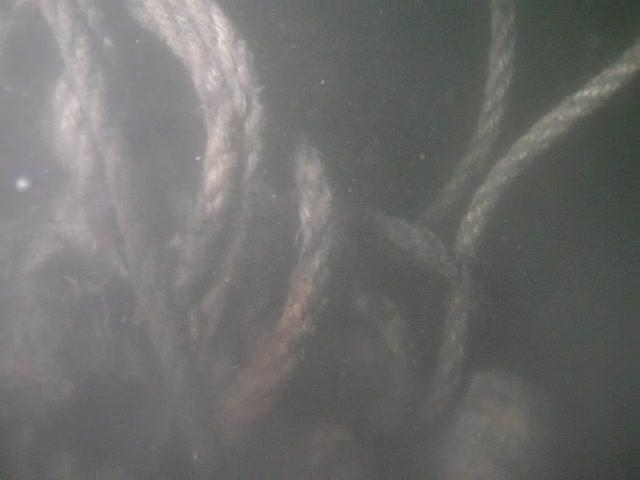bundle of ropes: (36, 0, 640, 480)
